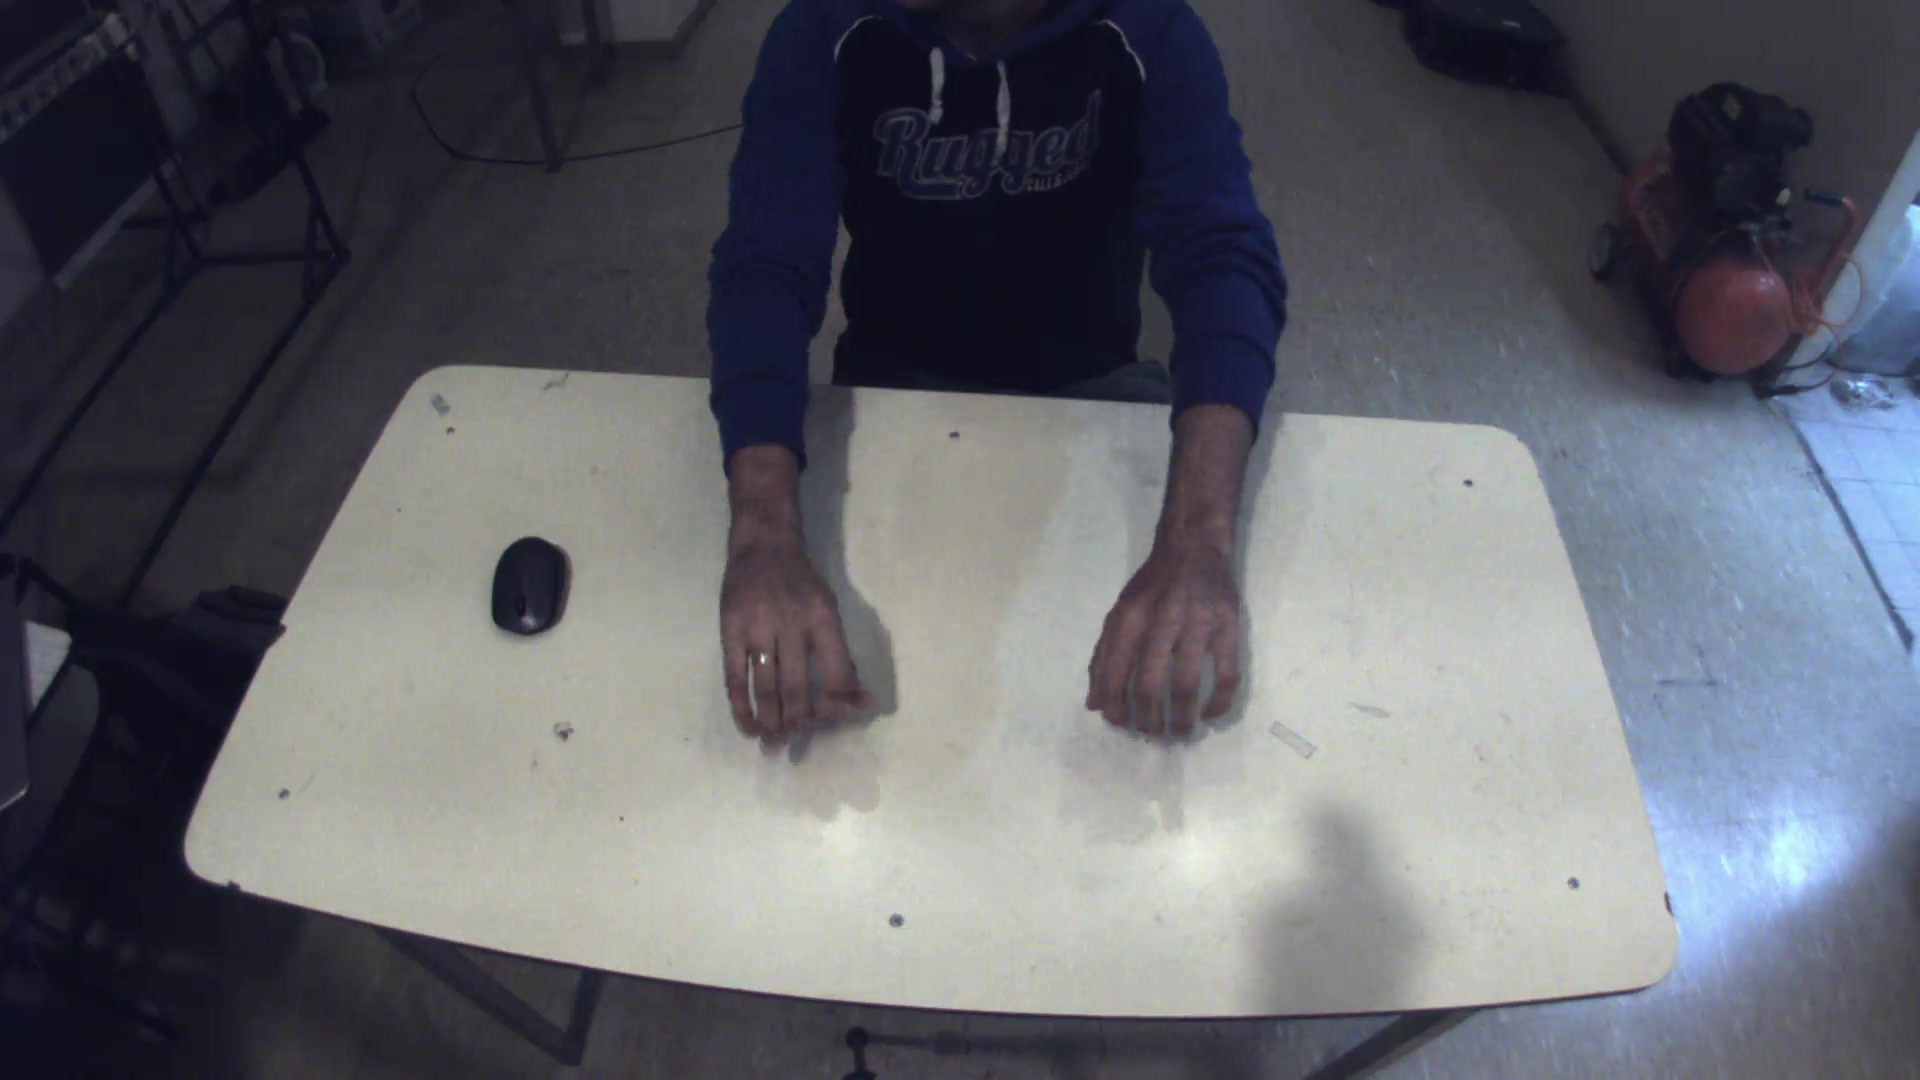hand: (1083, 513, 1262, 744), (708, 518, 874, 745)
